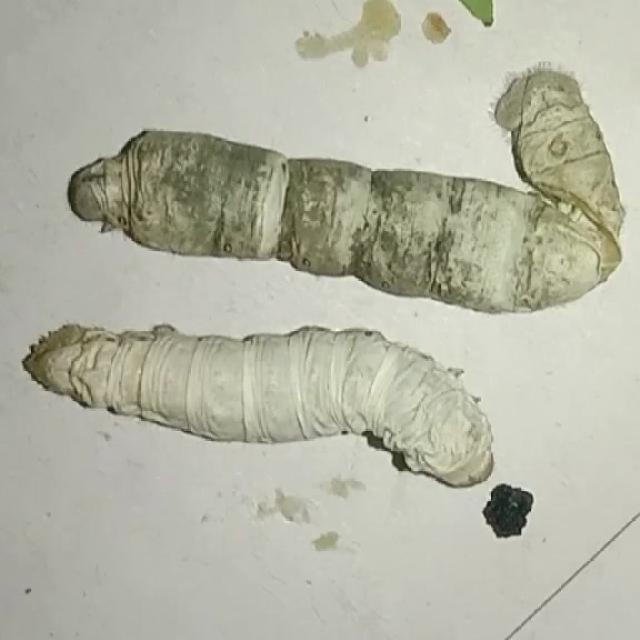Grasserie: (53, 25, 625, 322), (15, 317, 502, 558)
